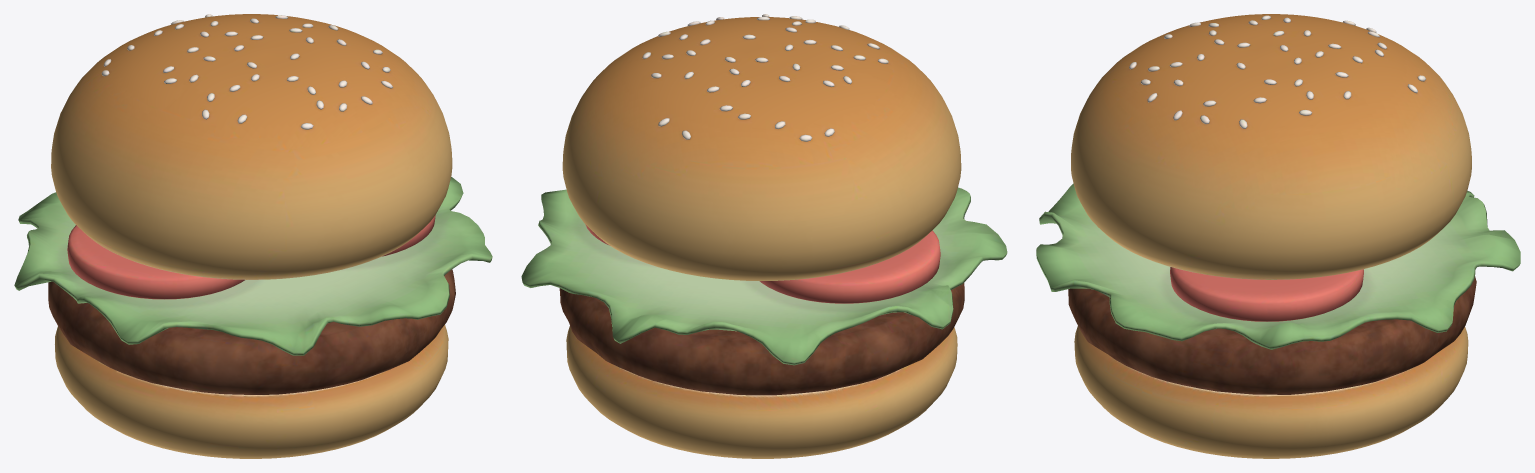
Rendered from burger-no-cheese.glb.
The picture shows the model from 3 angles, left to right: view 1: azimuth 30°, elevation 25°; view 2: azimuth 150°, elevation 25°; view 3: azimuth 270°, elevation 25°; orthographic projection.
Parts seen in each view (by area): view 1: burger_body; view 2: burger_body; view 3: burger_body.
Part boxes in pixels (left/top/right/bottom): burger_body: left=14, top=14, right=492, bottom=458; burger_body: left=521, top=14, right=1007, bottom=458; burger_body: left=1036, top=14, right=1520, bottom=458.
Bounding box in the file's own units: 0.1343 × 0.1027 × 0.1322.
1 material, 1 textured.
